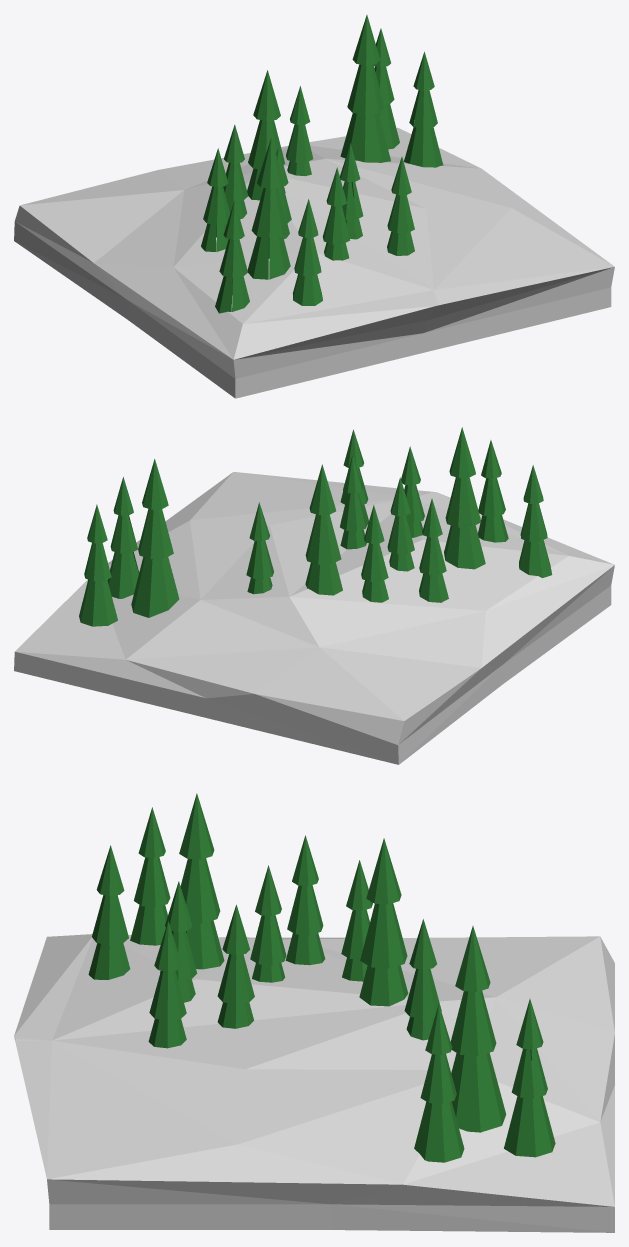
File: building_forest.fbx
The picture shows the model from 3 angles, top to bottom: view 1: azimuth 30°, elevation 25°; view 2: azimuth 150°, elevation 25°; view 3: azimuth 270°, elevation 25°; orthographic projection. The views are drawn at different scales.
Parts seen in each view (by area): view 1: pinetrees; view 2: pinetrees; view 3: pinetrees.
Part boxes in pixels (bbox=[...]): pinetrees: bbox=[14, 15, 614, 398]; pinetrees: bbox=[14, 427, 614, 764]; pinetrees: bbox=[14, 793, 614, 1232].
Size of the model in its own units: 51.6 by 25.04 by 53.13.
